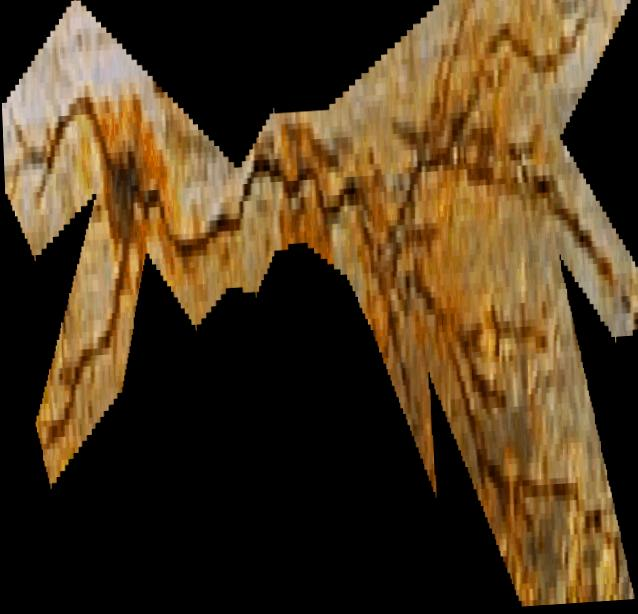Crack: (1, 0, 638, 614)
